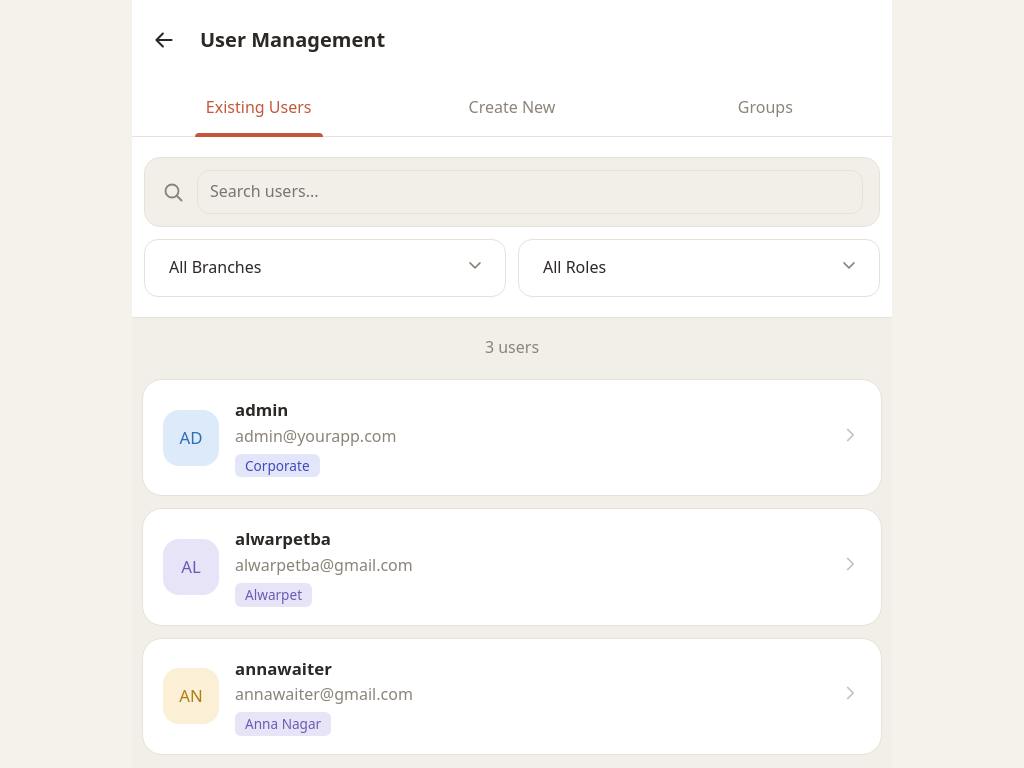
Scenario: User Management — Create New › creates a user from a preset at the chosen branch, then shows the list
Step 1. Click the tab "Create New" → (512, 110), box [385,84,639,136]
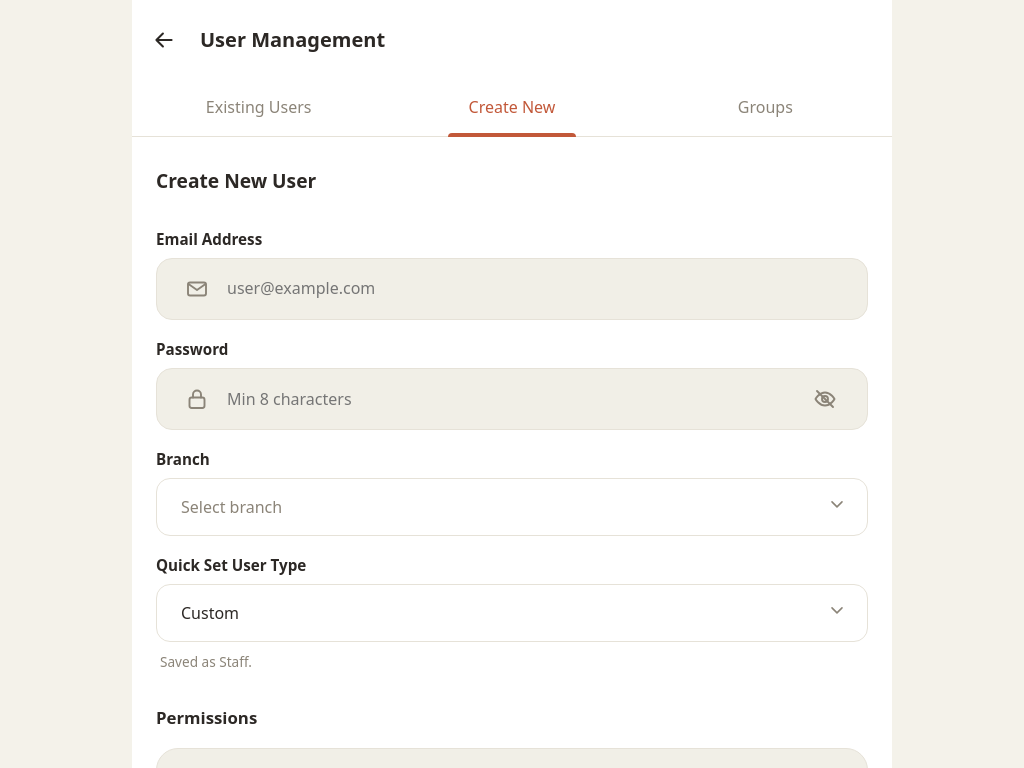
Check: the heading "Create New User" is shown, box [156,167,316,194]
Step 2. Type " new@test.com " into the field labelled "Email Address" → (536, 289), box [225,267,847,311]
Step 3. Type "Password123" into the password field labelled "Password" → (506, 399), box [225,377,787,421]
Step 4. Click the button "Select branch" → (232, 507), box [156,478,868,536]
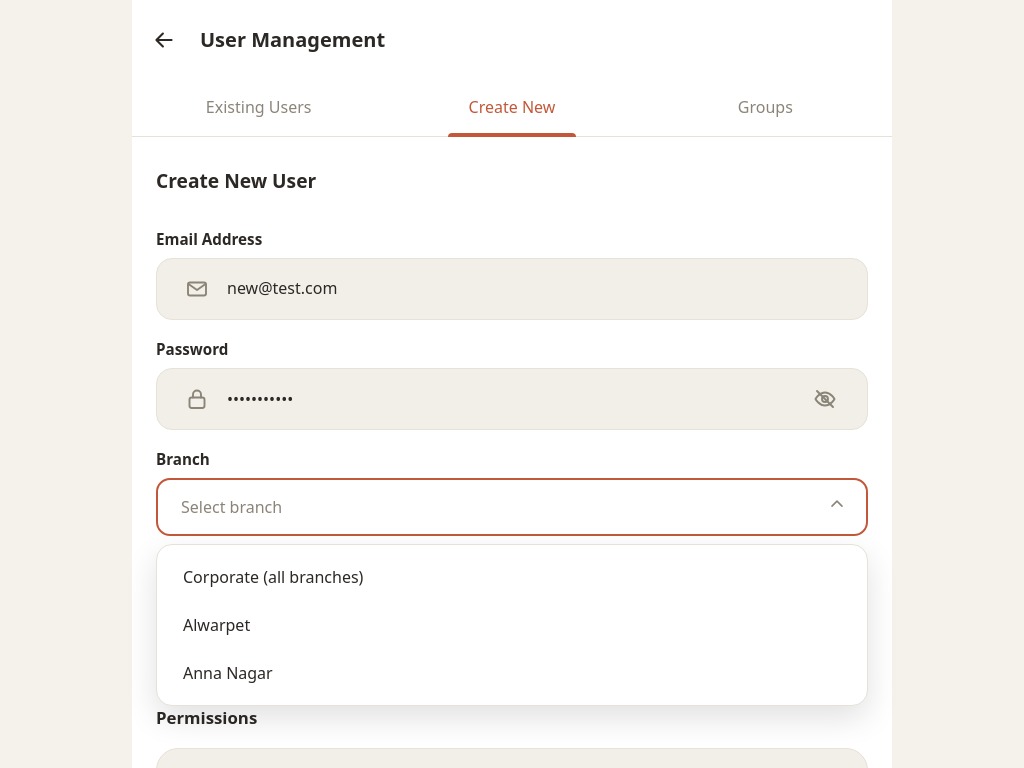
Step 5. Click the option "Alwarpet" → (217, 625), box [165,601,859,649]
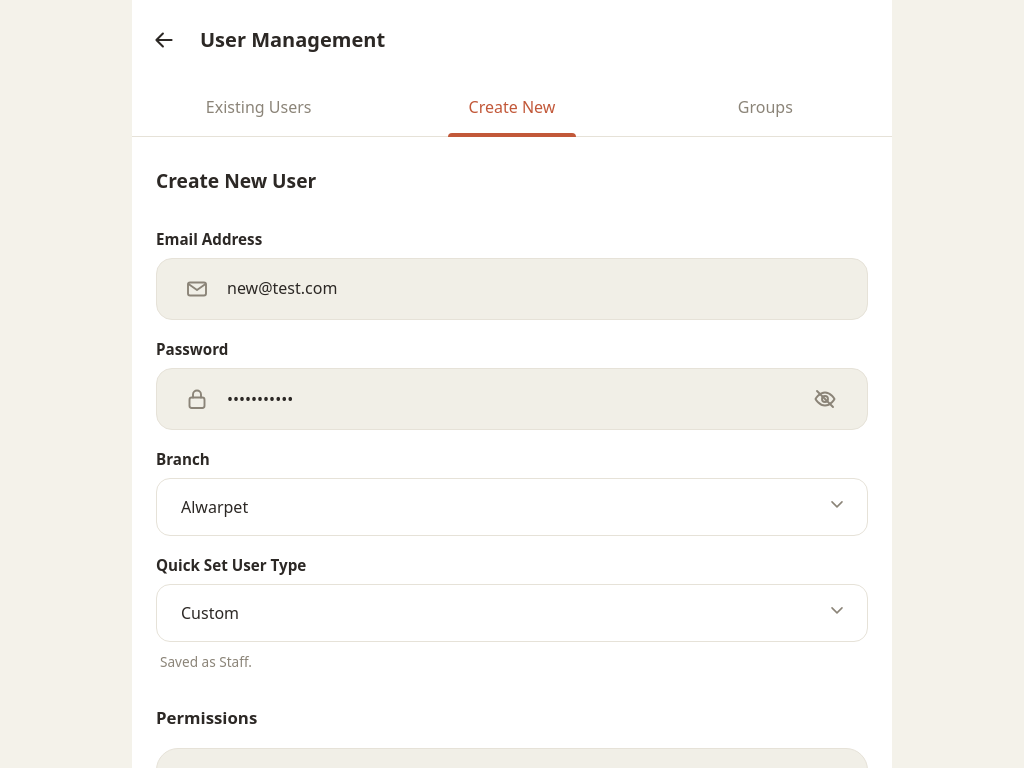
Step 6. Click the button with aria-label "Quick Set User Type" → (210, 613), box [156,584,868,642]
(page scrolled)
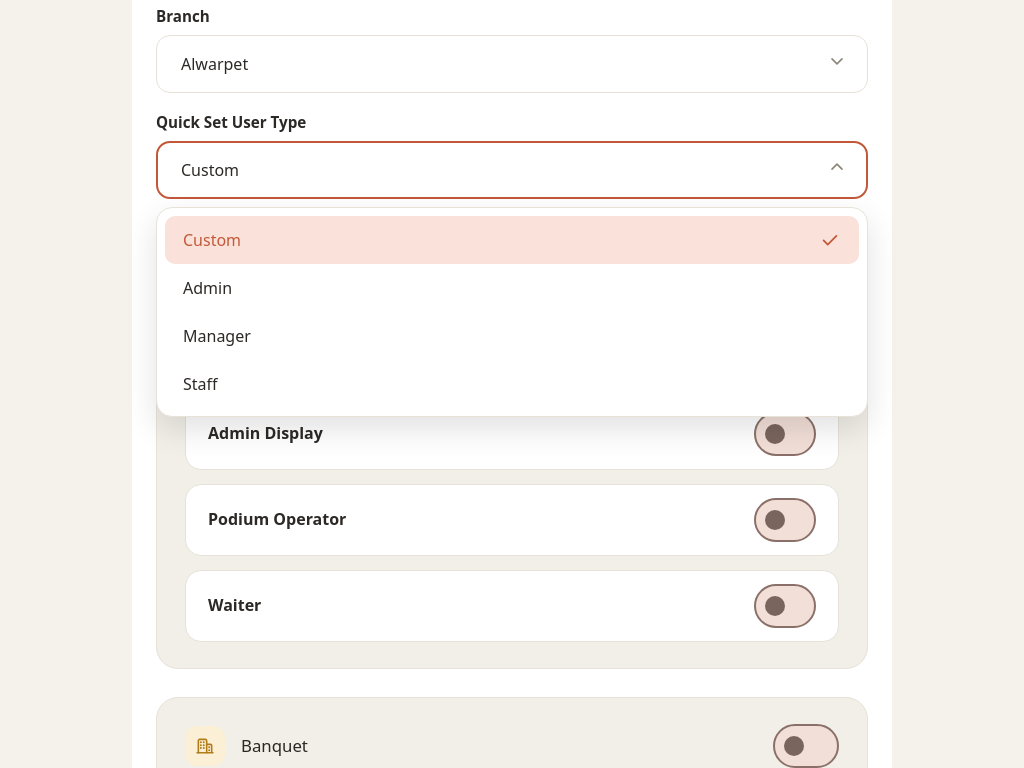
Step 7. Click the option "Staff" → (200, 384), box [165,360,859,408]
(page scrolled)
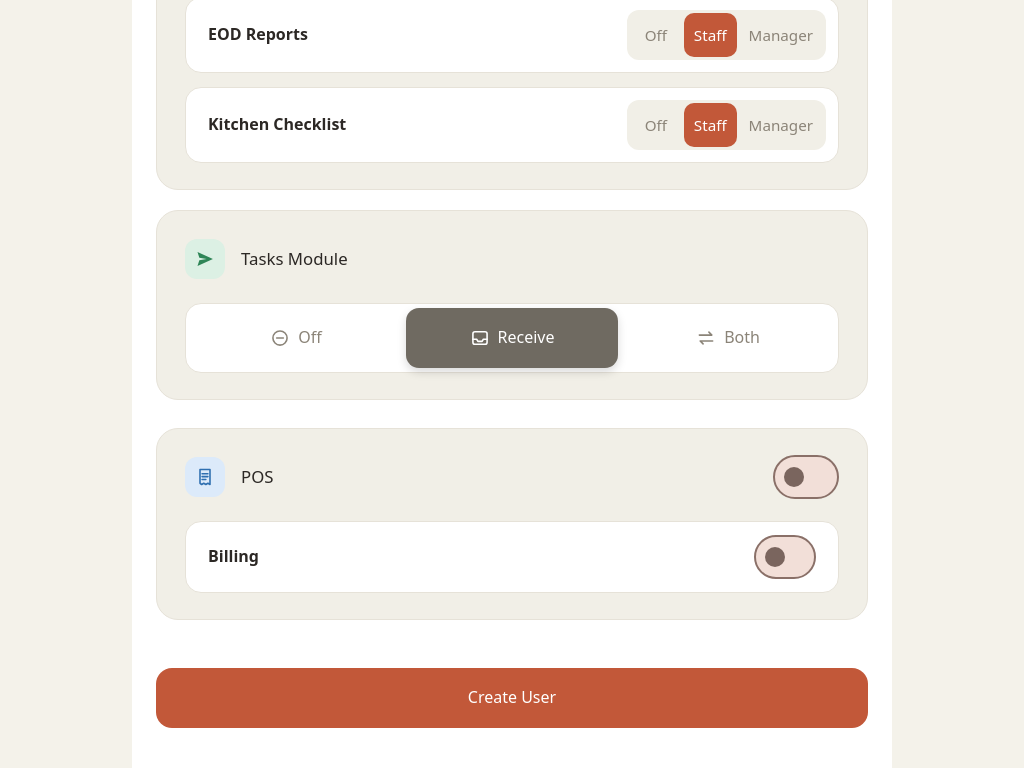
Step 8. Click the button "Create User" → (512, 698), box [156,668,868,728]
(page scrolled)
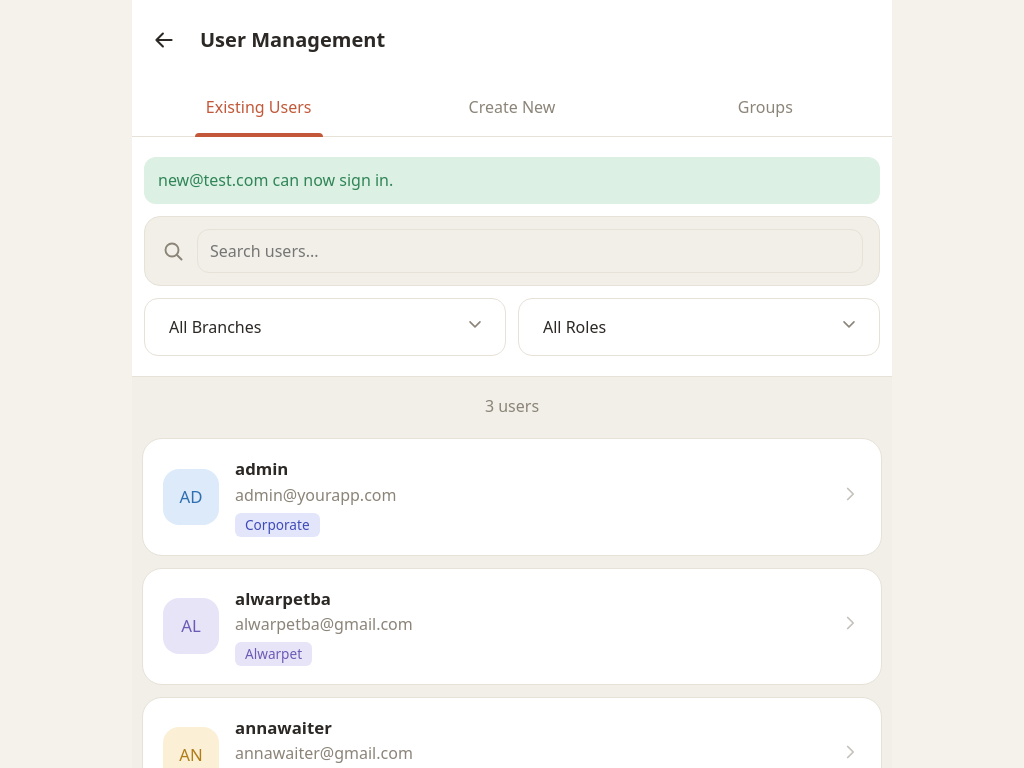
Check: the text "new@test.com can now sign in." is shown, box [144,157,880,204]
